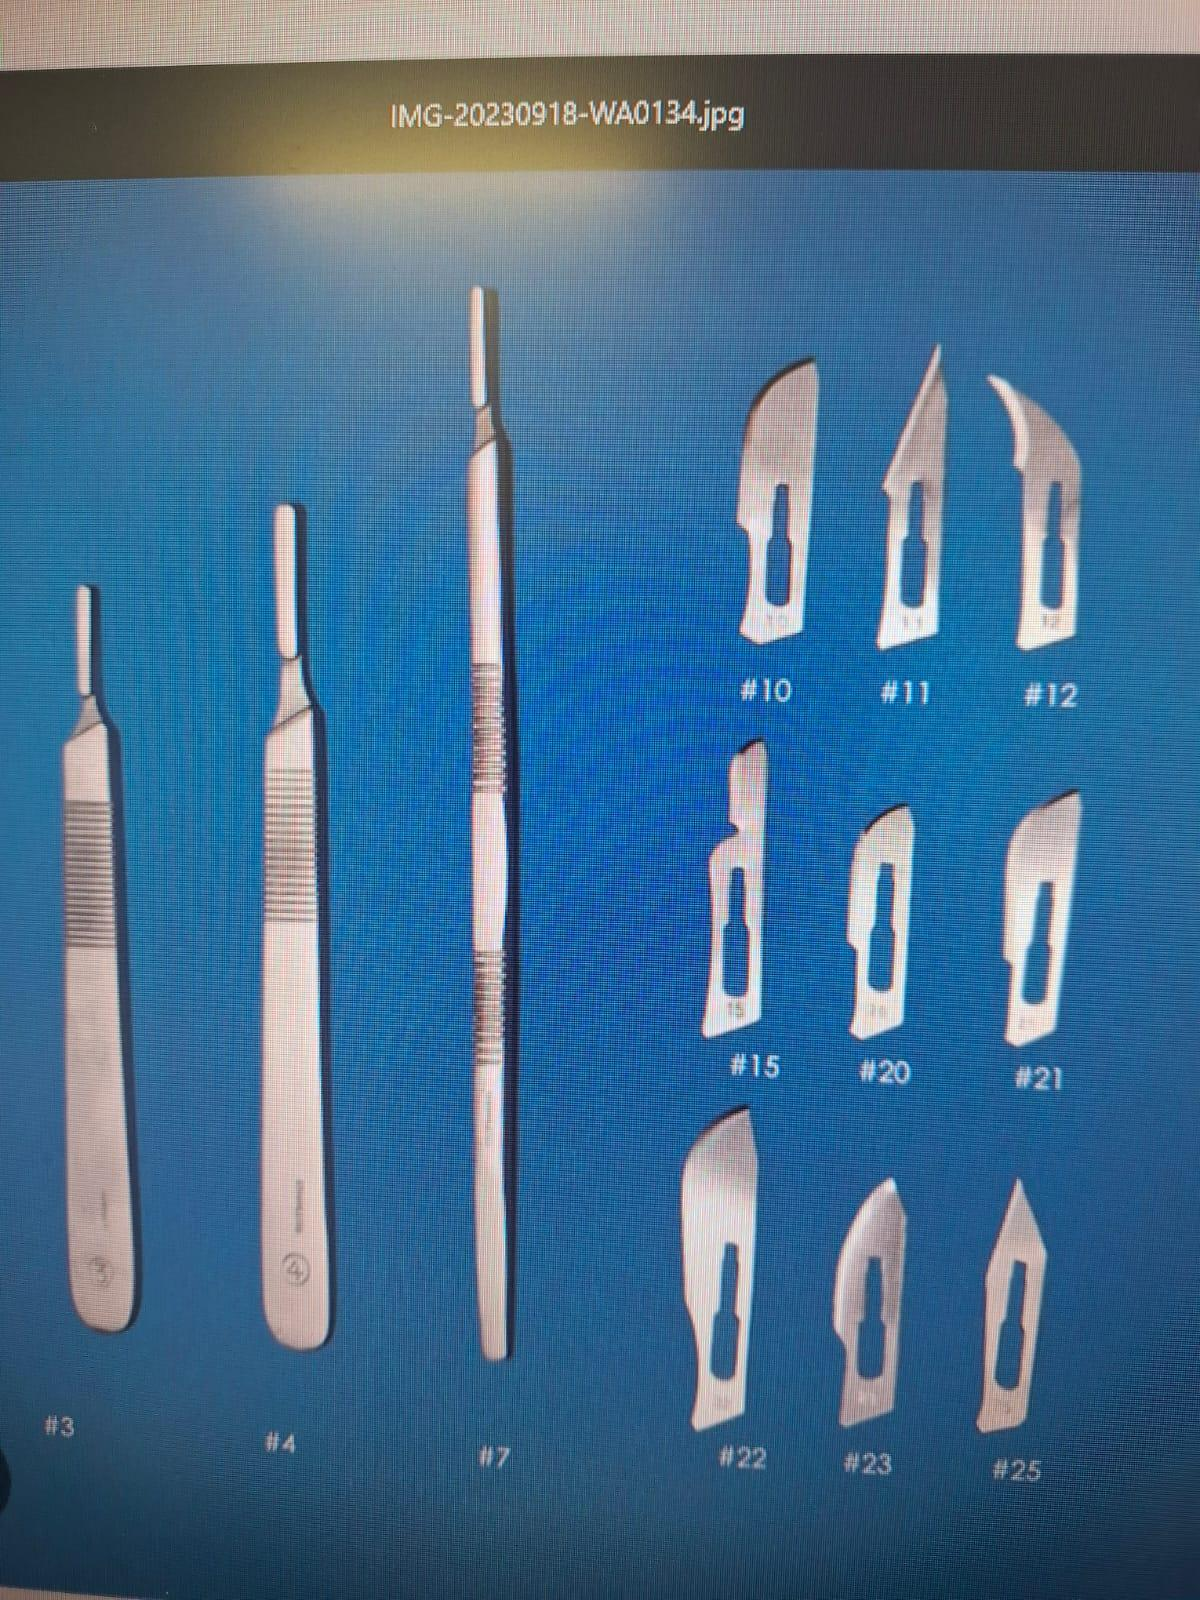Knife Blade: (695, 345, 842, 660), (865, 338, 979, 658), (984, 363, 1103, 660), (987, 775, 1108, 1054), (666, 1102, 760, 1453), (821, 792, 945, 1054), (963, 1180, 1078, 1445), (827, 1168, 920, 1445)
Knife Handle: (239, 485, 366, 1367), (35, 553, 165, 1348)
